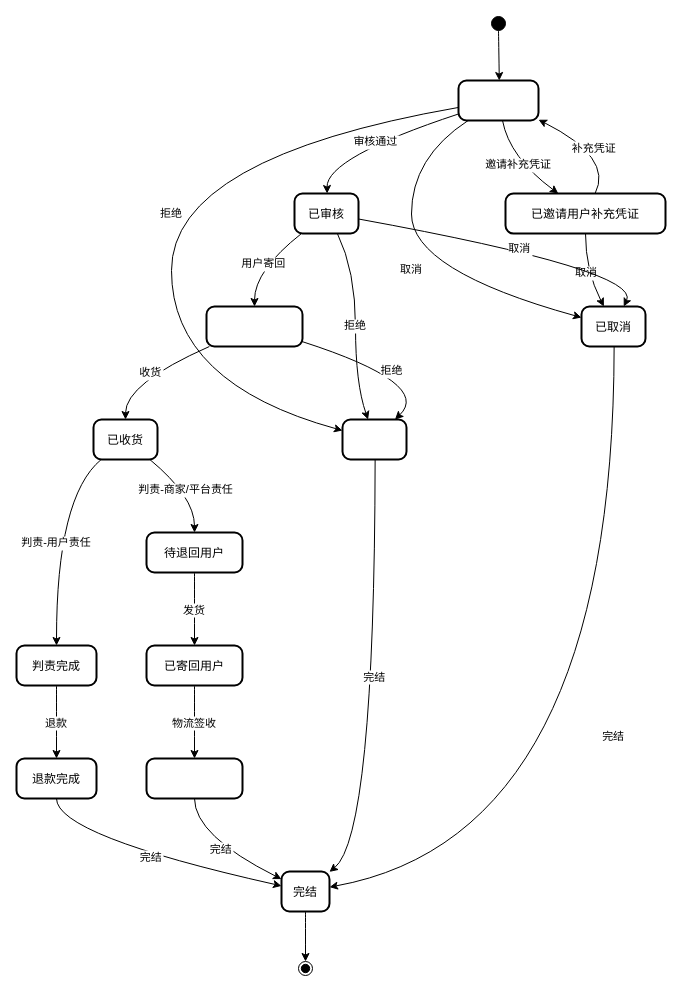
The diagram is 682 pixels wide and 992 high, and some of its shapes have lost their labels. The centre of each missing label's shape, as x and y in pixels:
买家已发货: the point at 254,326
创建完成: the point at 498,100
已拒绝: the point at 374,439
用户已签收: the point at 194,778
